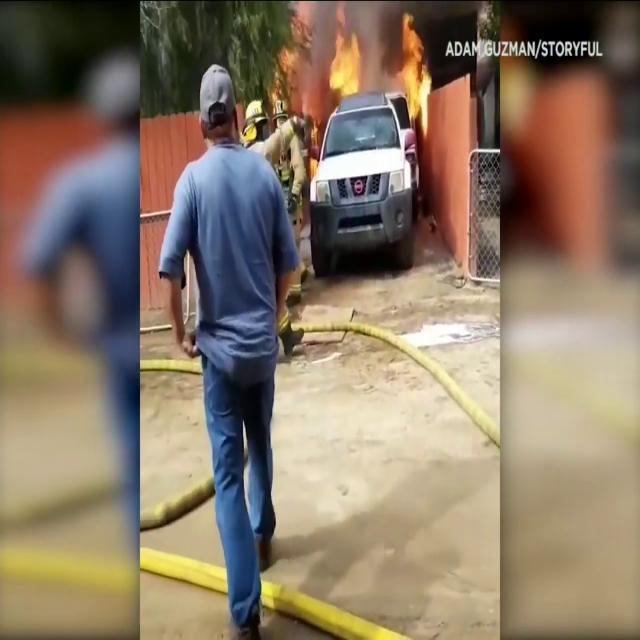Fire: (386, 10, 434, 134), (328, 20, 364, 100)
